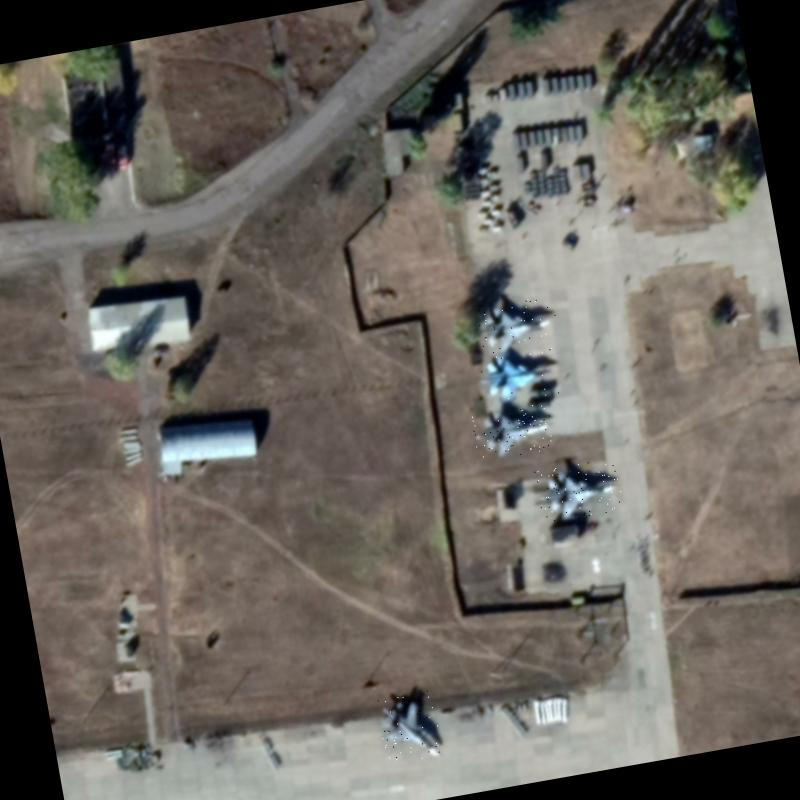A19: (534, 457, 626, 524), (476, 289, 560, 356), (473, 347, 562, 407), (376, 690, 443, 767), (470, 403, 556, 462)
